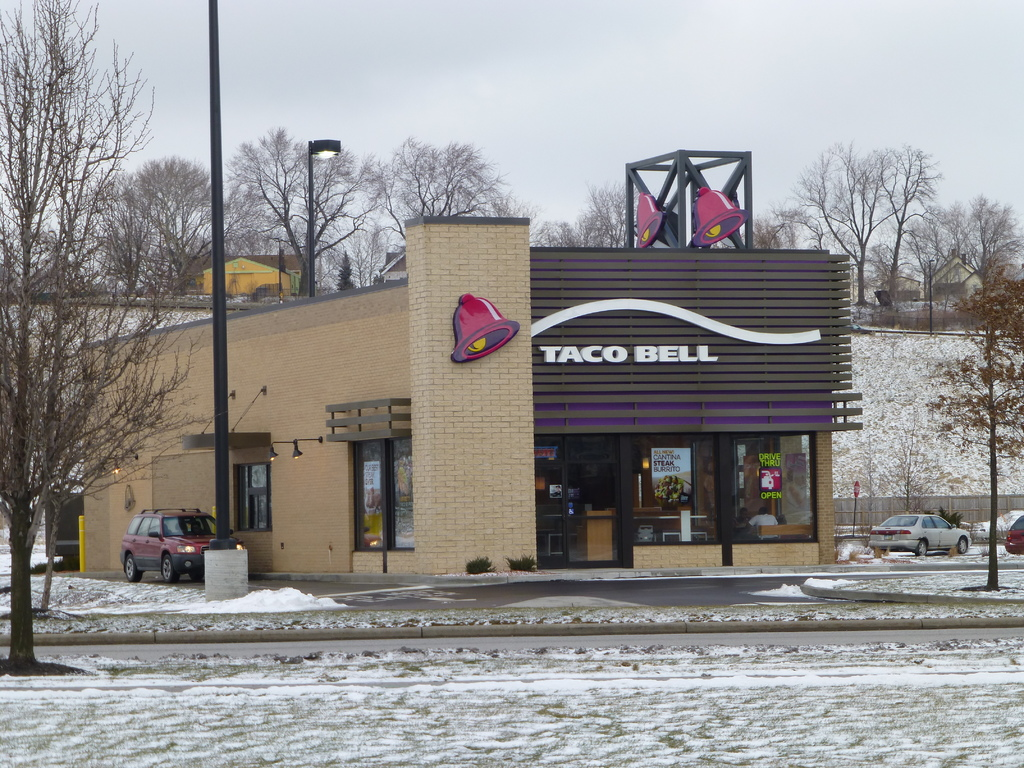Car: (104, 517, 213, 593), (863, 512, 971, 558), (871, 288, 968, 326), (1003, 515, 1023, 555)
